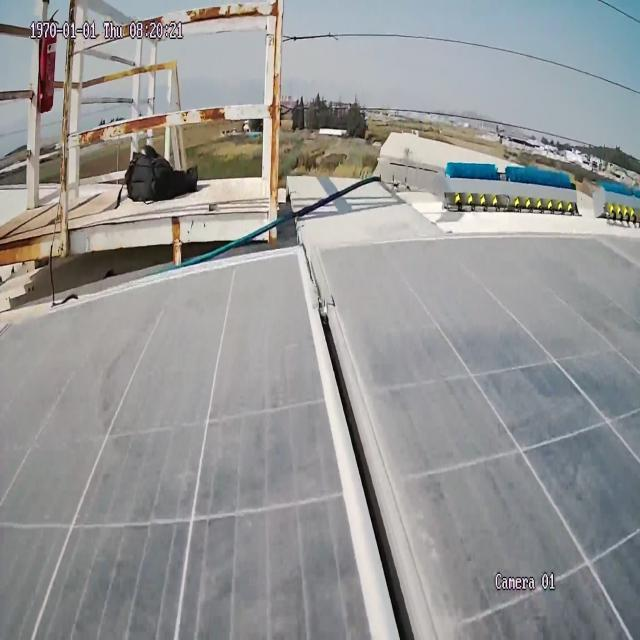interior panel: (281, 237, 494, 640)
